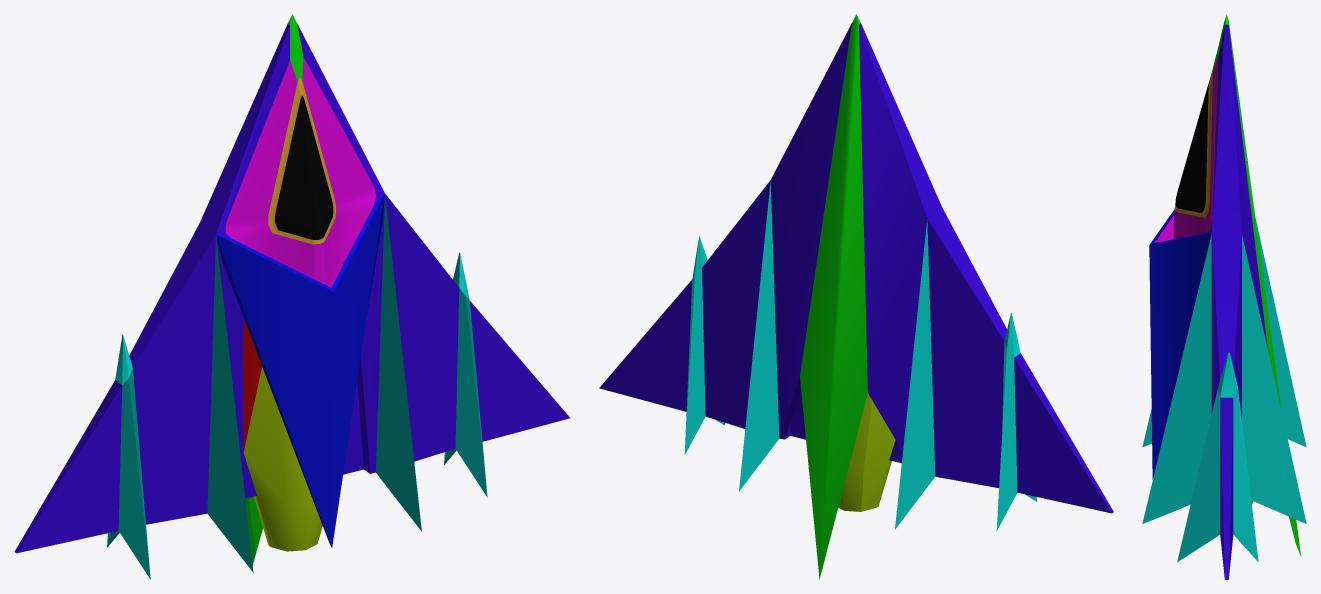
The model's file is PlayerCharacter3.fbx.
The picture shows the model from 3 angles, left to right: view 1: azimuth 30°, elevation 25°; view 2: azimuth 150°, elevation 25°; view 3: azimuth 270°, elevation 25°; orthographic projection. The views are drawn at different scales.
Visible parts, largest first — view 1: Box001; view 2: Box001; view 3: Box001.
Part boxes in pixels (x1=…): Box001: x1=14, y1=14, x2=570, y2=579; Box001: x1=599, y1=14, x2=1113, y2=579; Box001: x1=1142, y1=14, x2=1306, y2=579.
Bounding box in the file's own units: 3.08 × 0.8489 × 3.1.
